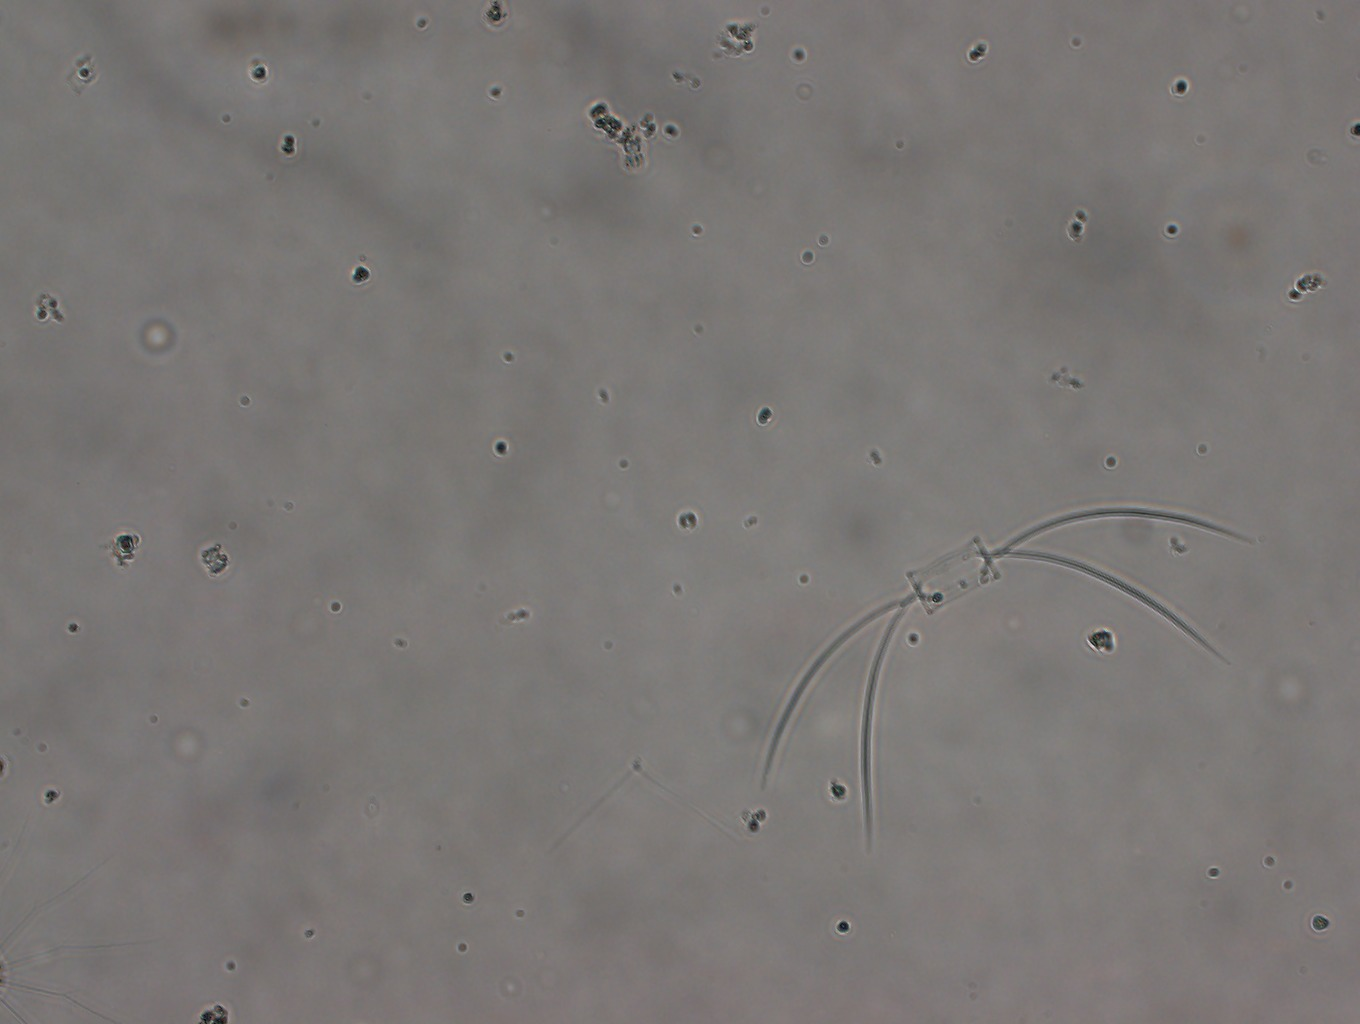chaetoceros: (751, 487, 1275, 848)
